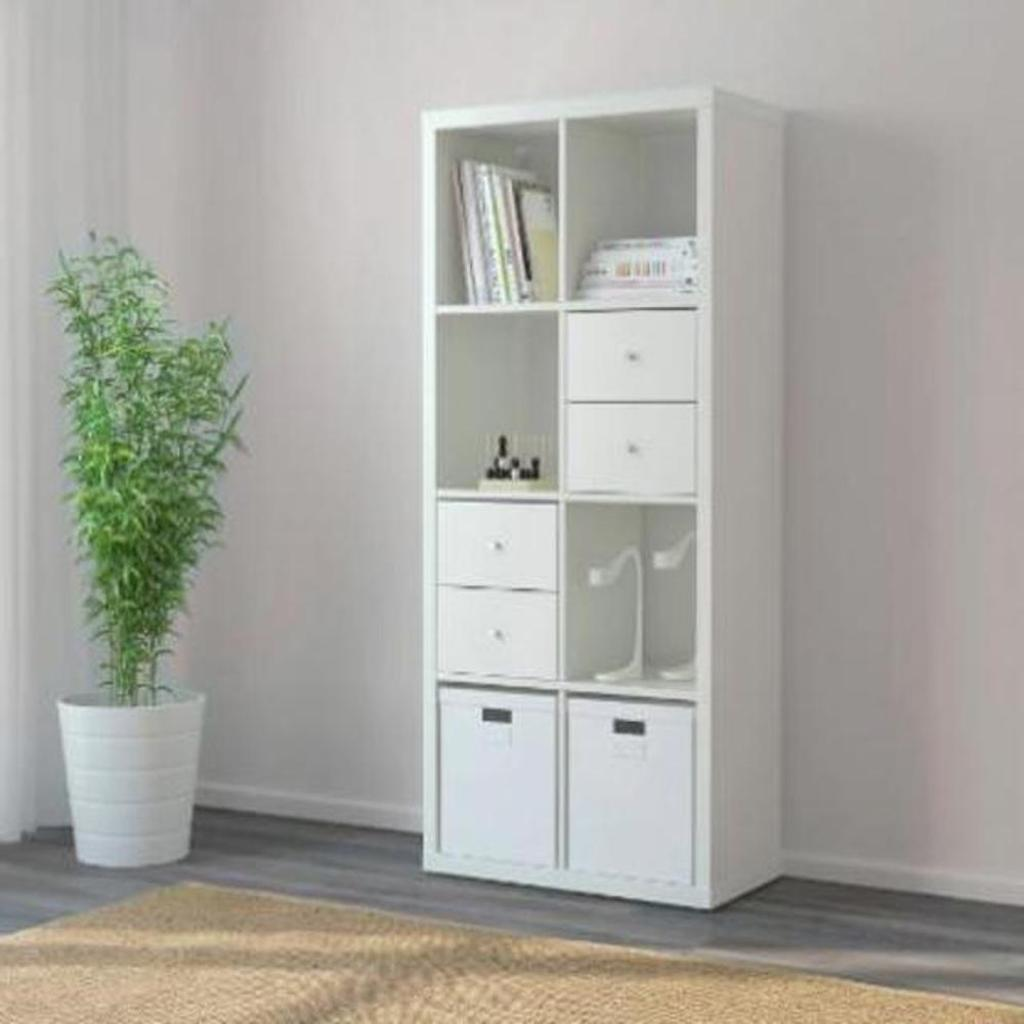lamp: (418, 78, 793, 912)
